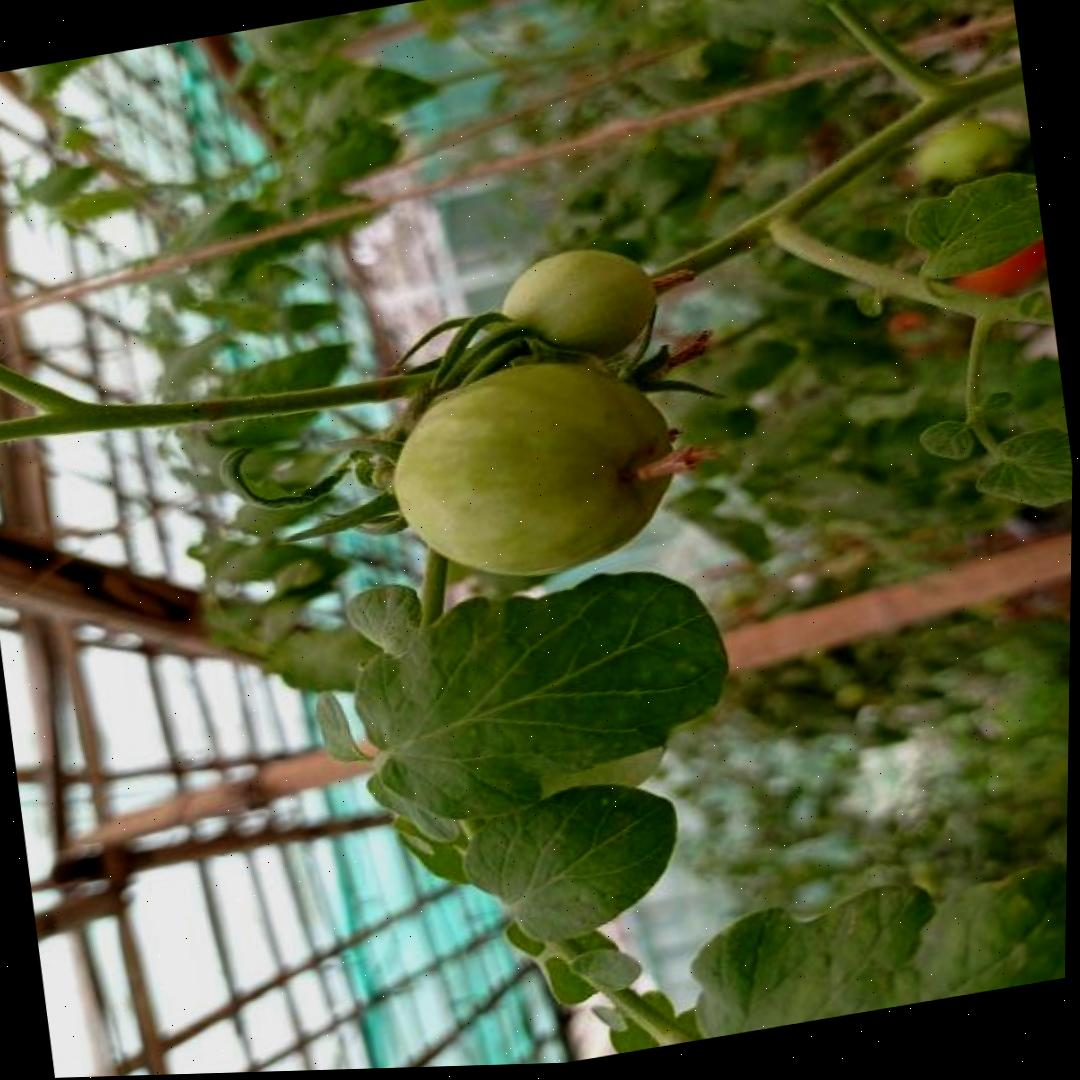mentah: (375, 337, 693, 598), (489, 234, 664, 377)
